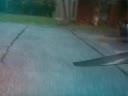window: (4, 1, 124, 94)
